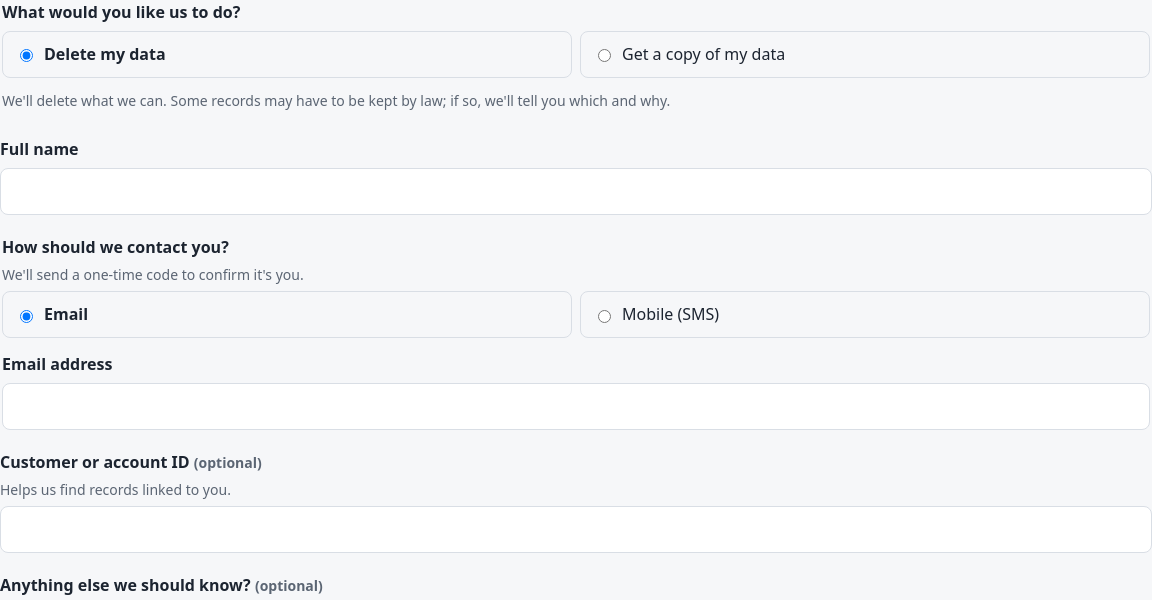
Scenario: ErasureForm › switches the contact field to a mobile number with an E.164 hint
Click the radio button labelled "Mobile (SMS)".
click(604, 316)  # box [598, 310, 611, 323]
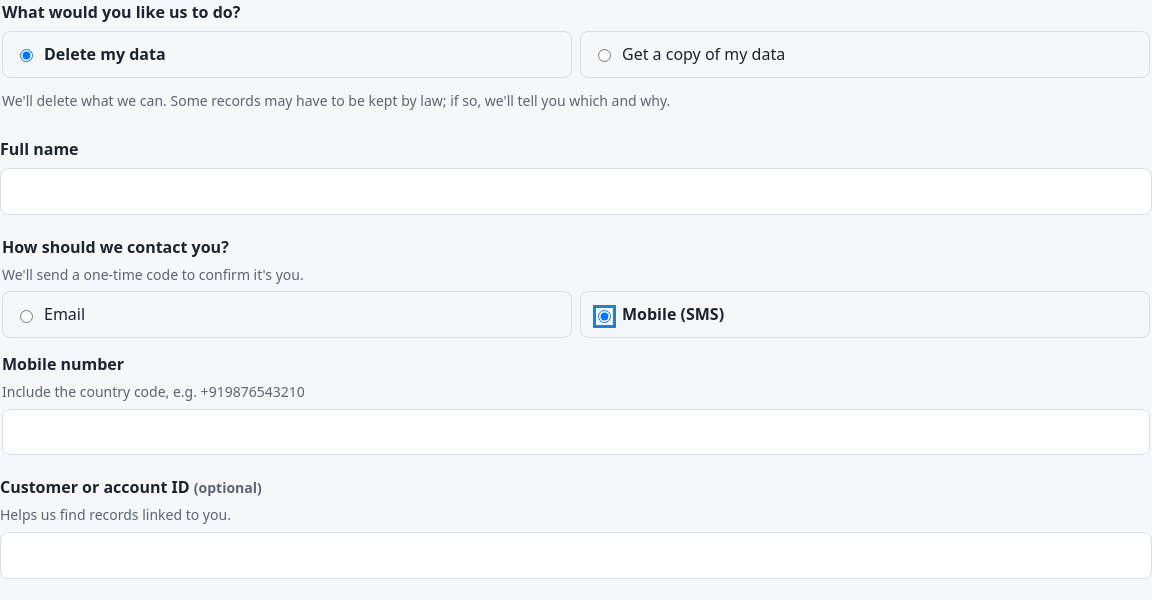
Expected: the text "Include the country code, e.g. +919876543210" is shown, [2, 382, 305, 401]
